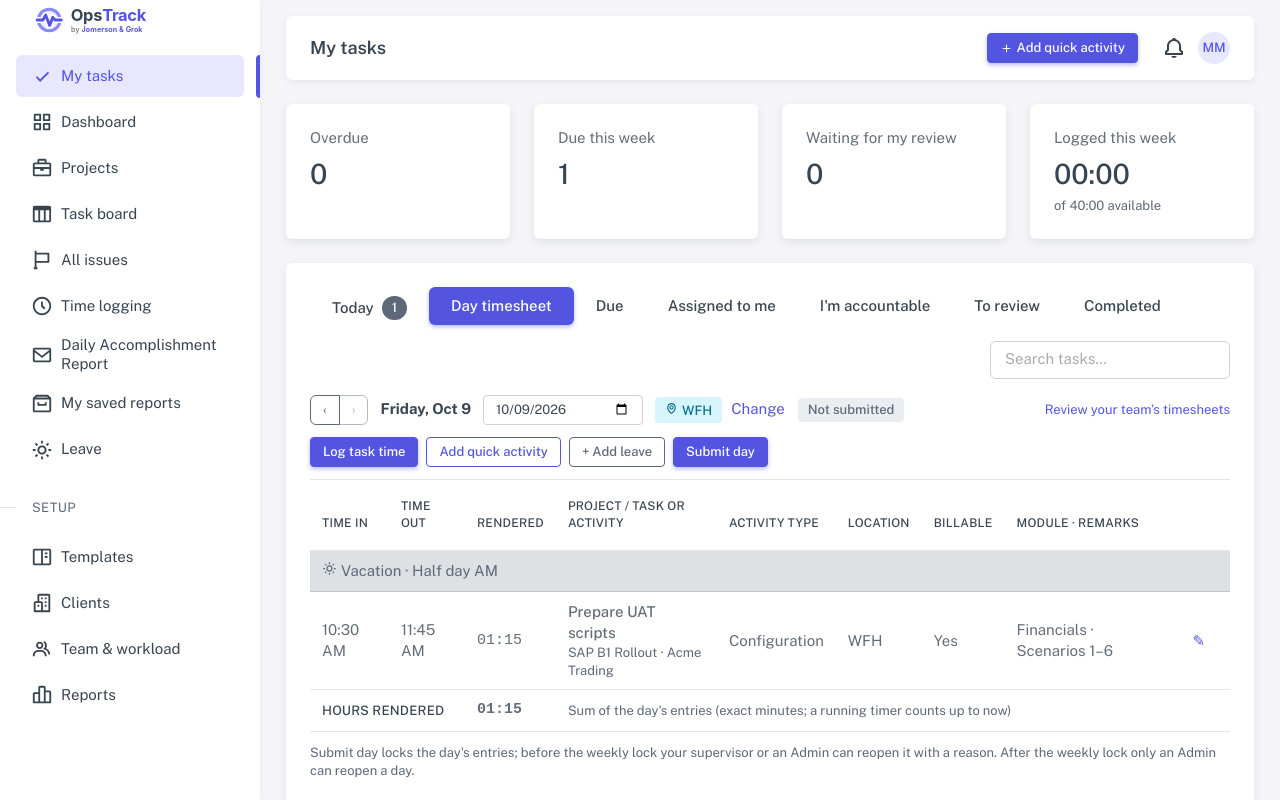
Test: FR-LV-12: leave on the Day timesheet › shows a grey read-only leave row first and + Add leave opens Record leave on that date
The image size is (1280, 800).
Expected: the row with test id "leave-row" reads "Vacation · Half day AM", [341,562,498,579]
Click the button "+ Add leave" at (617, 452), box [569,437,665,467]
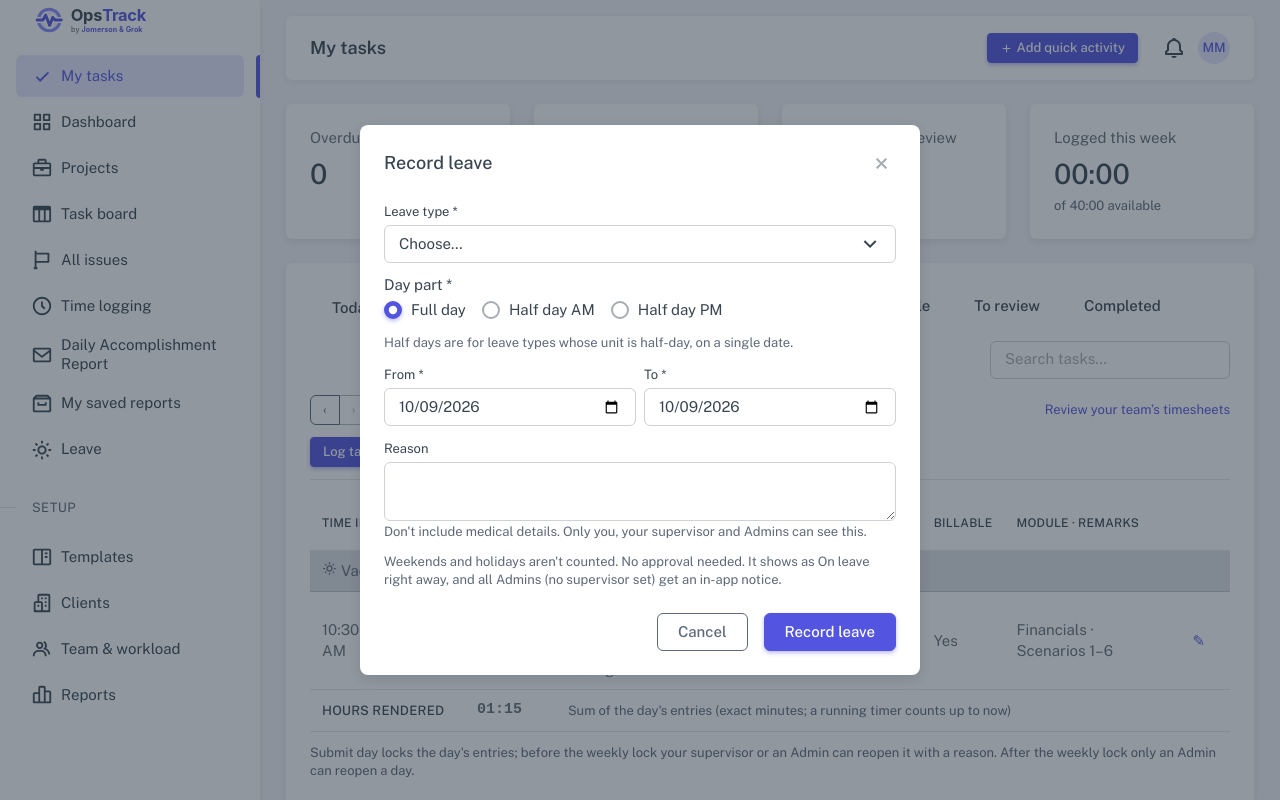
Now the date field labelled "From *" holds "2026-10-09", box [384,388,636,426]
